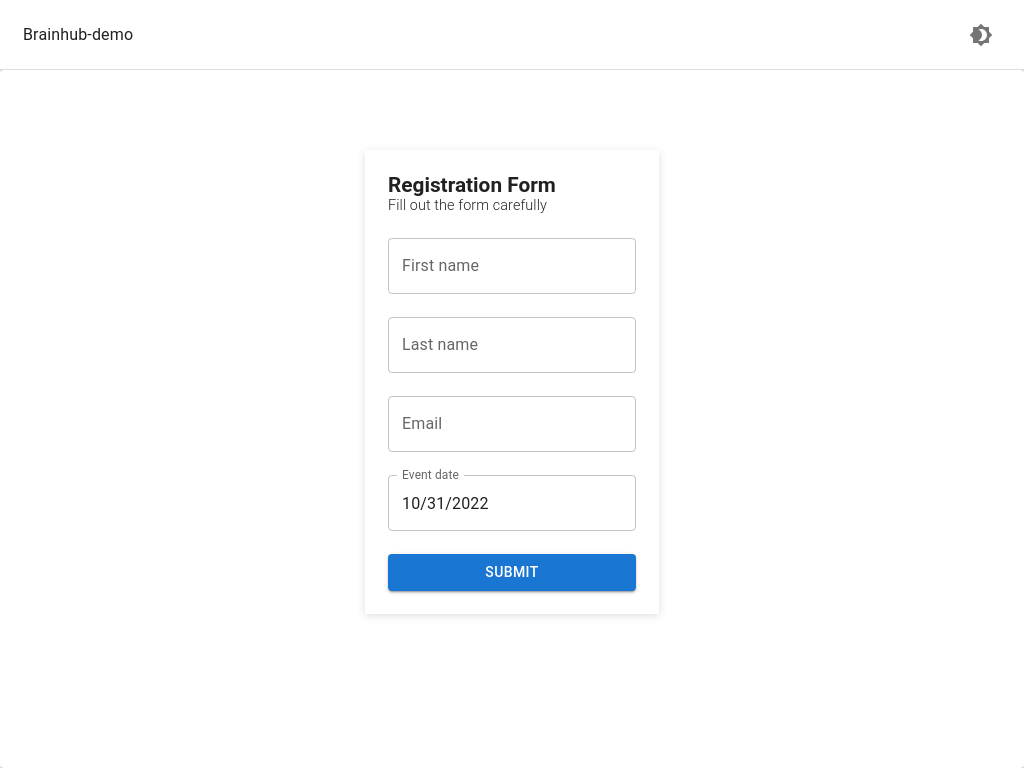
Test: user registration flow › should throw error on invalid email
The width and height of the screenshot is (1024, 768).
Step 1. Type "Janek" into the element with test id "addUserForm-input-firstName" → (512, 266), box x1=388 y1=238 x2=636 y2=294
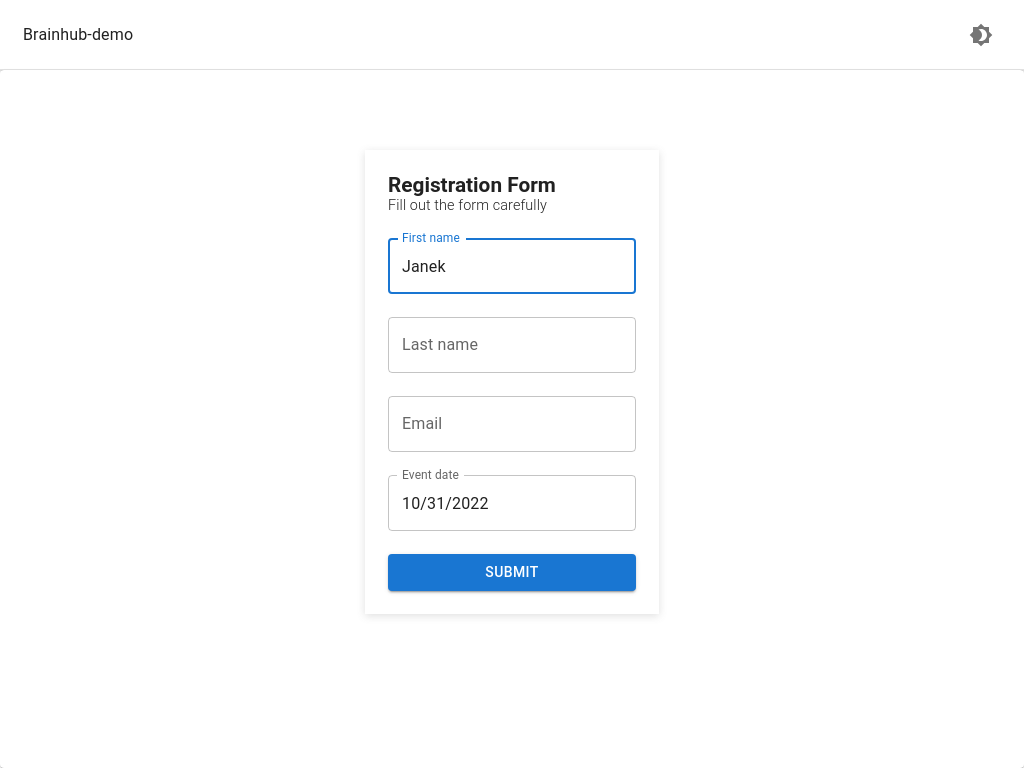
Step 2. Type "Kowalski" into the element with test id "addUserForm-input-lastName" → (512, 345), box x1=388 y1=317 x2=636 y2=373
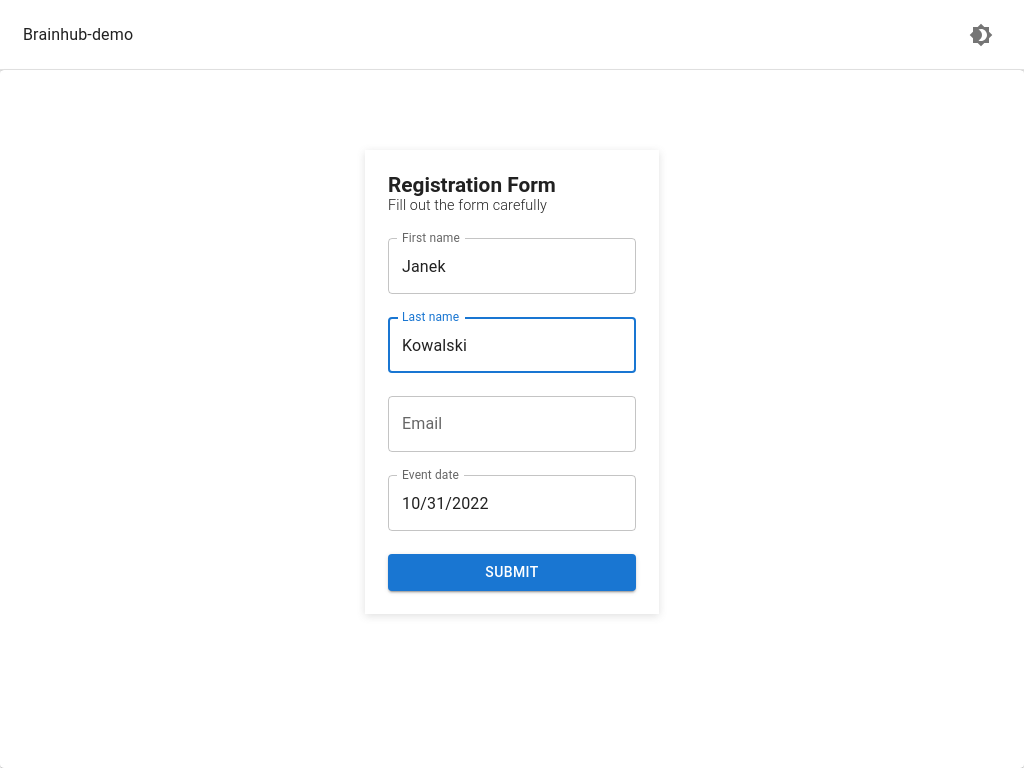
Step 3. Type "incorrect" into the element with test id "addUserForm-input-email" → (512, 424), box x1=388 y1=396 x2=636 y2=452
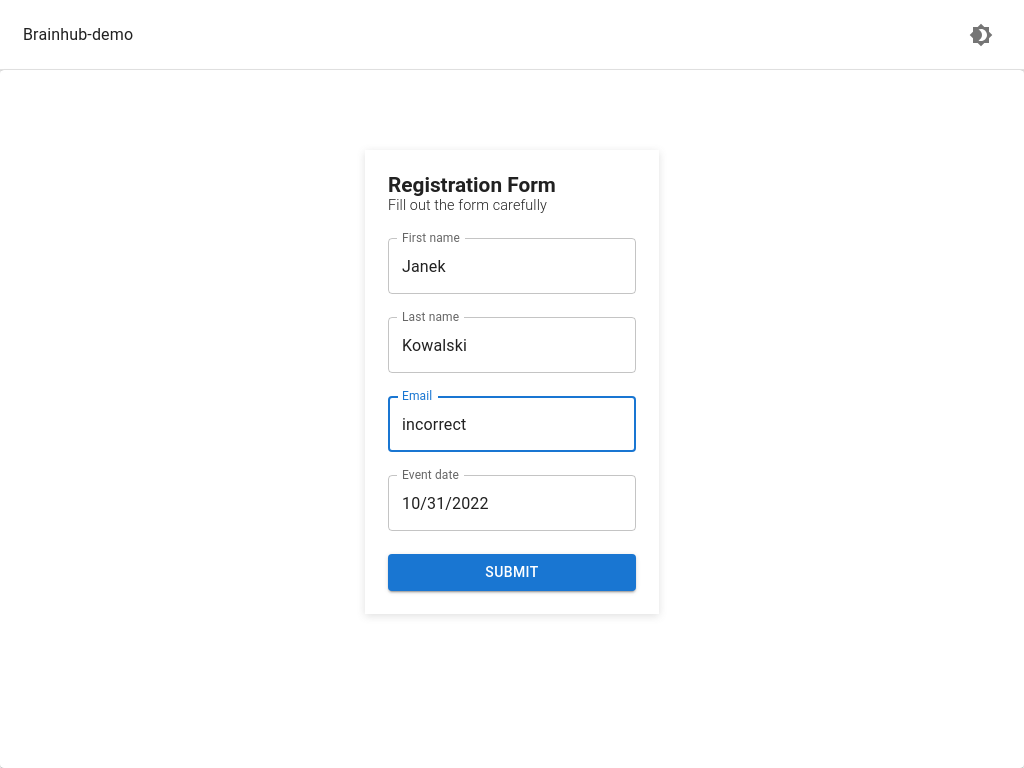
Step 4. Click the button with test id "addUserForm-button-submit" → (512, 573), box x1=388 y1=554 x2=636 y2=591
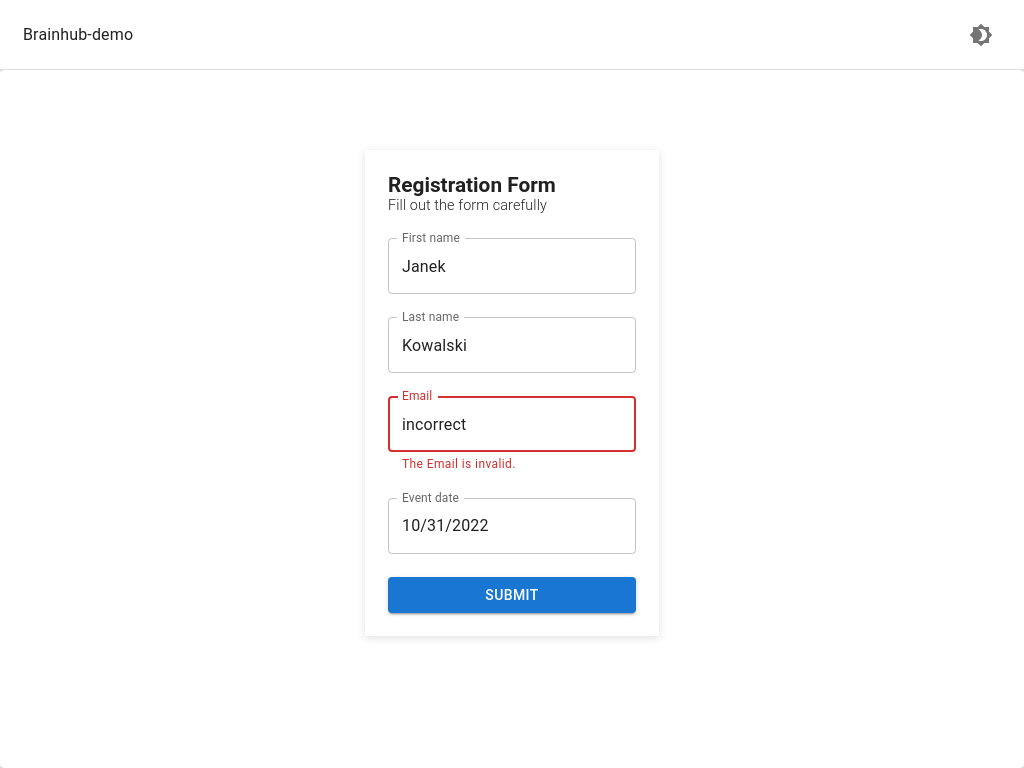
Expected: the text "The Email is invalid." is shown, x1=402 y1=457 x2=516 y2=471
